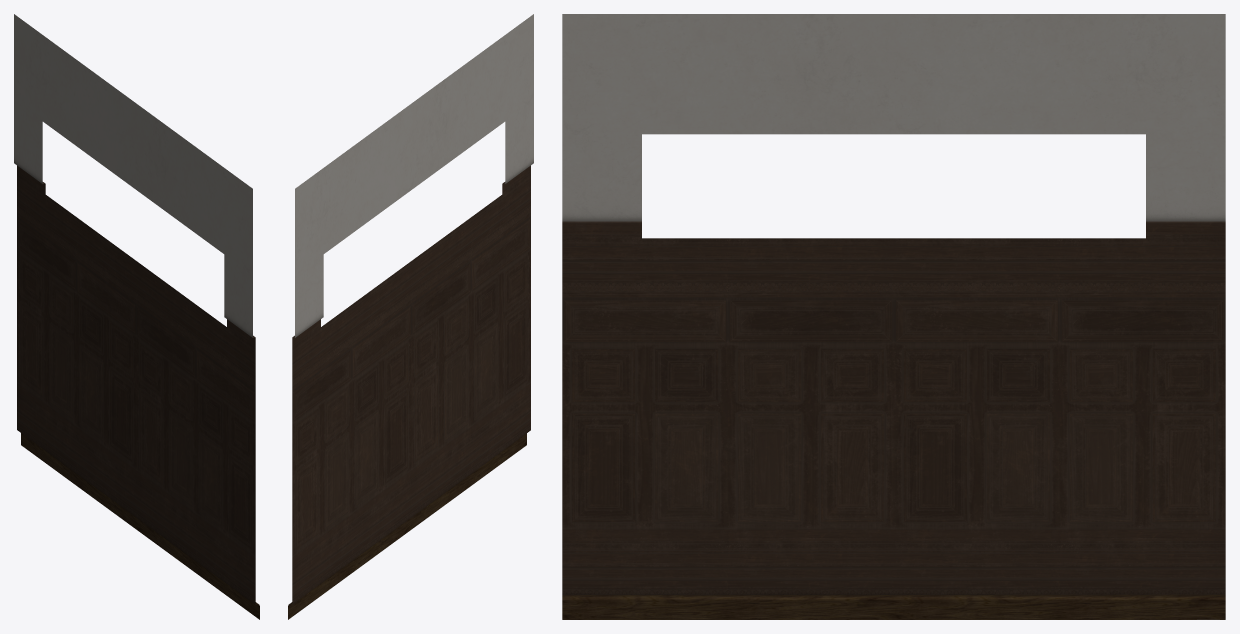
The model's file is Principal Office 4m Window D.fbx.
3 renders of one model, left to right at view 1: azimuth 30°, elevation 25°; view 2: azimuth 150°, elevation 25°; view 3: azimuth 270°, elevation 25°, orthographic. The views are drawn at different scales.
Visible parts, largest first — view 1: Principle_Office_4M_Window_D; view 2: Principle_Office_4M_Window_D; view 3: Principle_Office_4M_Window_D.
Part boxes in pixels (bbox=[...]): Principle_Office_4M_Window_D: bbox=[14, 14, 259, 619]; Principle_Office_4M_Window_D: bbox=[288, 14, 533, 619]; Principle_Office_4M_Window_D: bbox=[562, 14, 1225, 619].
Size of the model in its own units: 6.64 by 400 by 400.
